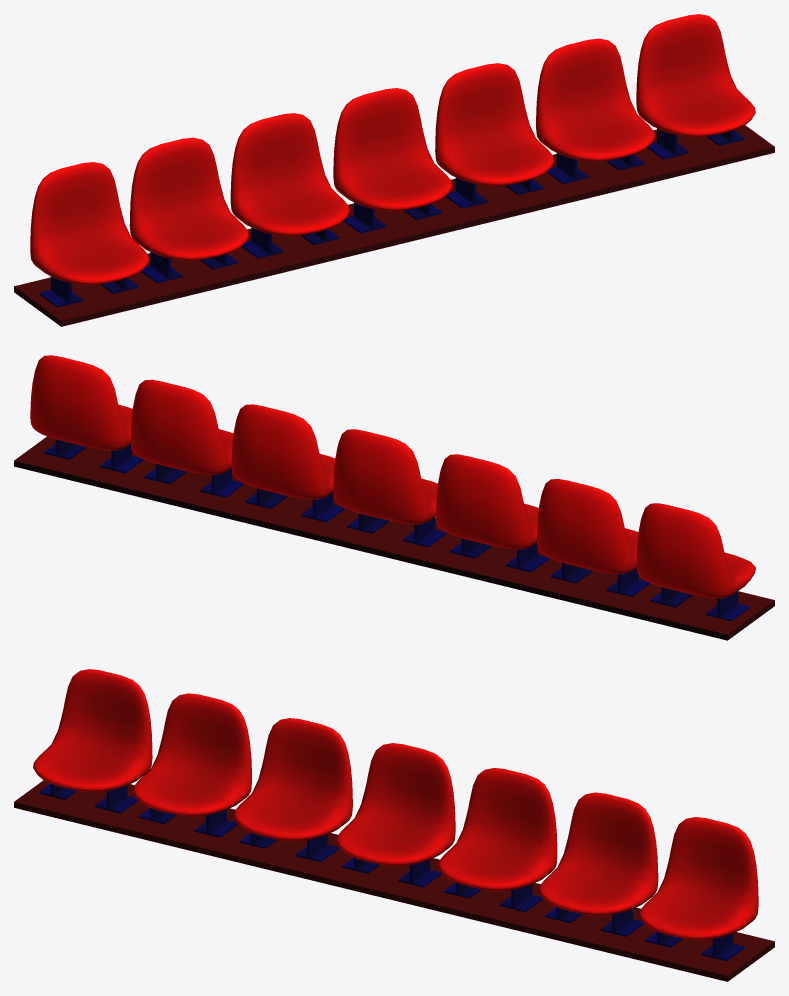
File: Bleecher.glb
3 renders of one model, top to bottom at view 1: azimuth 30°, elevation 25°; view 2: azimuth 150°, elevation 25°; view 3: azimuth 330°, elevation 25°, orthographic.
Visible parts, largest first — view 1: Bleecher; view 2: Bleecher; view 3: Bleecher.
Boxes of the visible parts, bbox=[...] form: Bleecher: bbox=[14, 14, 774, 326]; Bleecher: bbox=[14, 355, 774, 640]; Bleecher: bbox=[14, 669, 774, 981].
Size of the model in its own units: 27.11 by 4.24 by 3.34.
